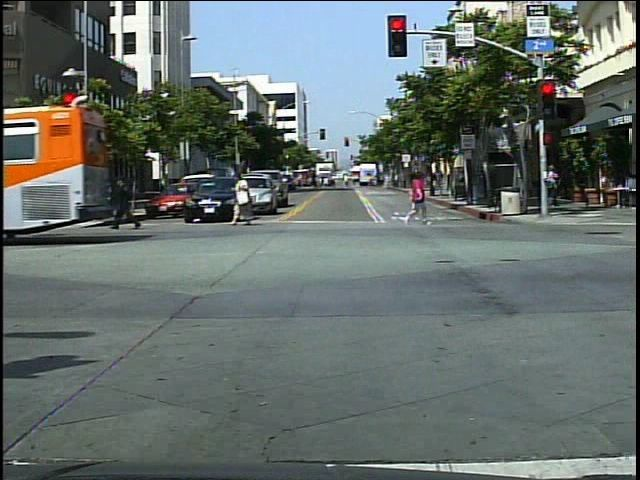person: (229, 166, 261, 230), (403, 166, 433, 230), (114, 170, 143, 236), (545, 161, 568, 212)
